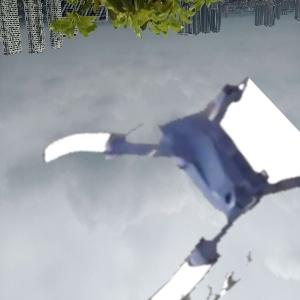drone: (53, 55, 298, 300)
